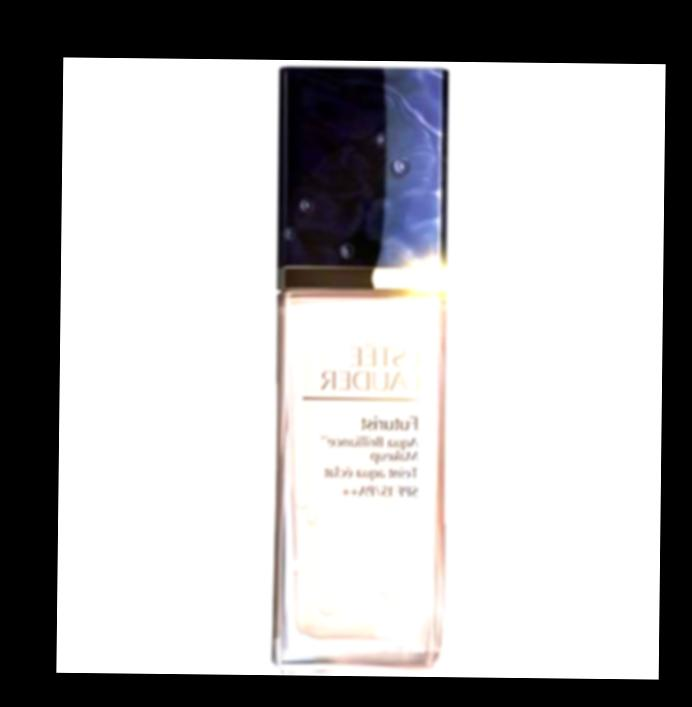cosmetic: (268, 64, 450, 673)
